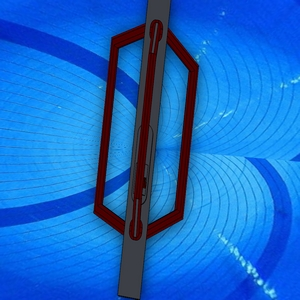submarine: (87, 1, 202, 300)
